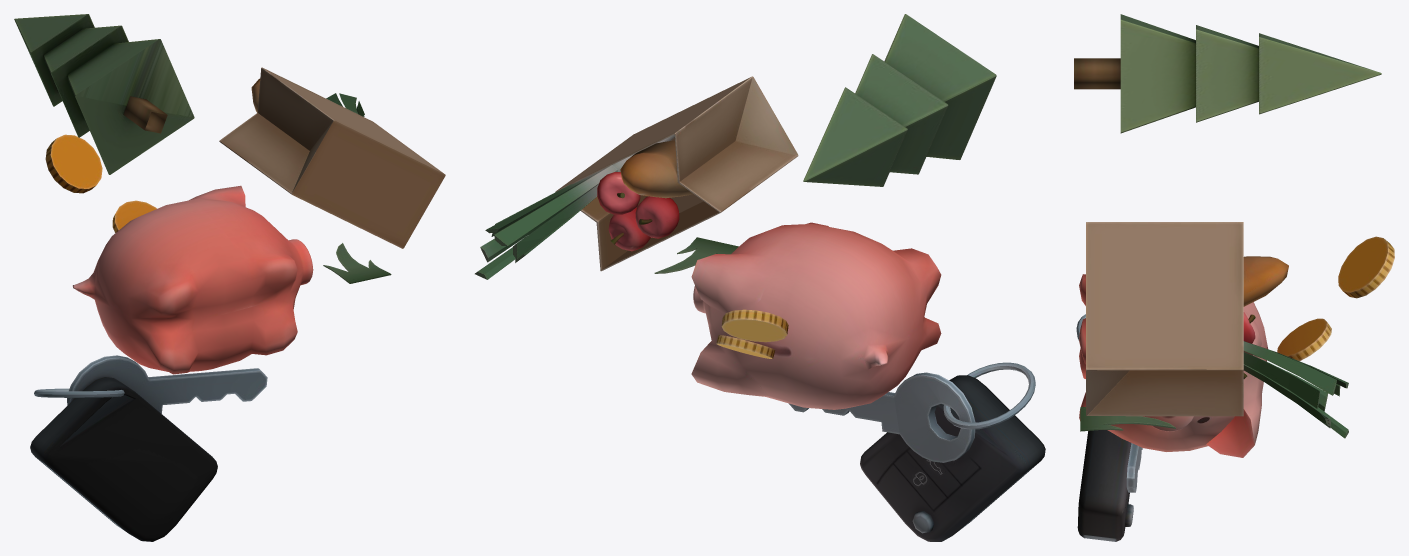
The model's file is shopping.glb.
3 views of the same model, side by side, from view 1: azimuth 30°, elevation 25°; view 2: azimuth 150°, elevation 25°; view 3: azimuth 270°, elevation 25° (orthographic). The views are drawn at different scales.
Parts seen in each view (by area): view 1: AiderProche, Arbres_AiderProche; view 2: AiderProche, Arbres_AiderProche; view 3: AiderProche, Arbres_AiderProche.
Boxes of the visible parts, x1=… form: AiderProche: x1=30, y1=67, x2=445, y2=541; Arbres_AiderProche: x1=14, y1=14, x2=391, y2=283; AiderProche: x1=475, y1=76, x2=1045, y2=541; Arbres_AiderProche: x1=654, y1=14, x2=996, y2=273; AiderProche: x1=1076, y1=222, x2=1394, y2=541; Arbres_AiderProche: x1=1074, y1=14, x2=1381, y2=431.
Size of the model in its own units: 0.9841 by 1.08 by 0.5925.
Materials: 2 (2 with a texture image).
